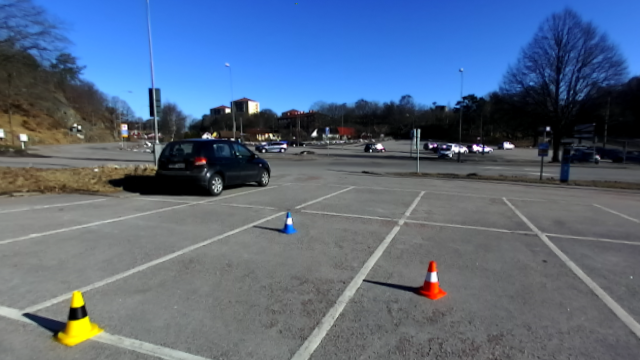blue: (280, 210, 299, 235)
orange: (416, 260, 448, 300)
yellow: (53, 287, 107, 344)
